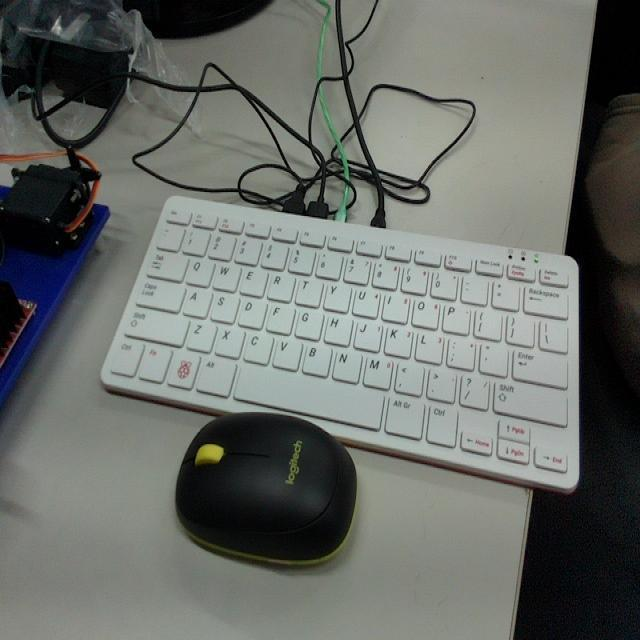keyboard: (106, 202, 574, 476)
